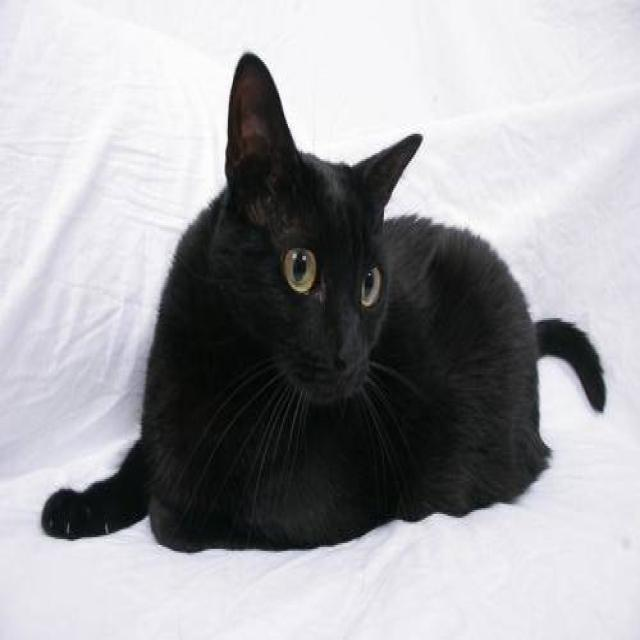cat: (39, 48, 606, 554)
